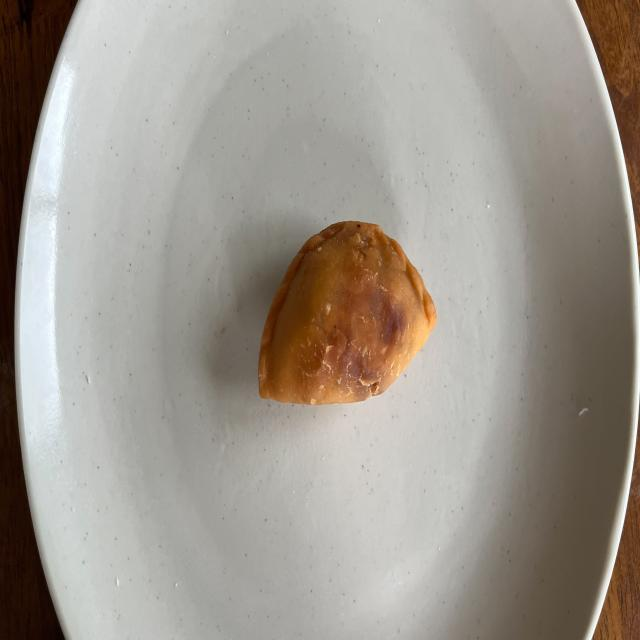karipap: (259, 222, 436, 404)
